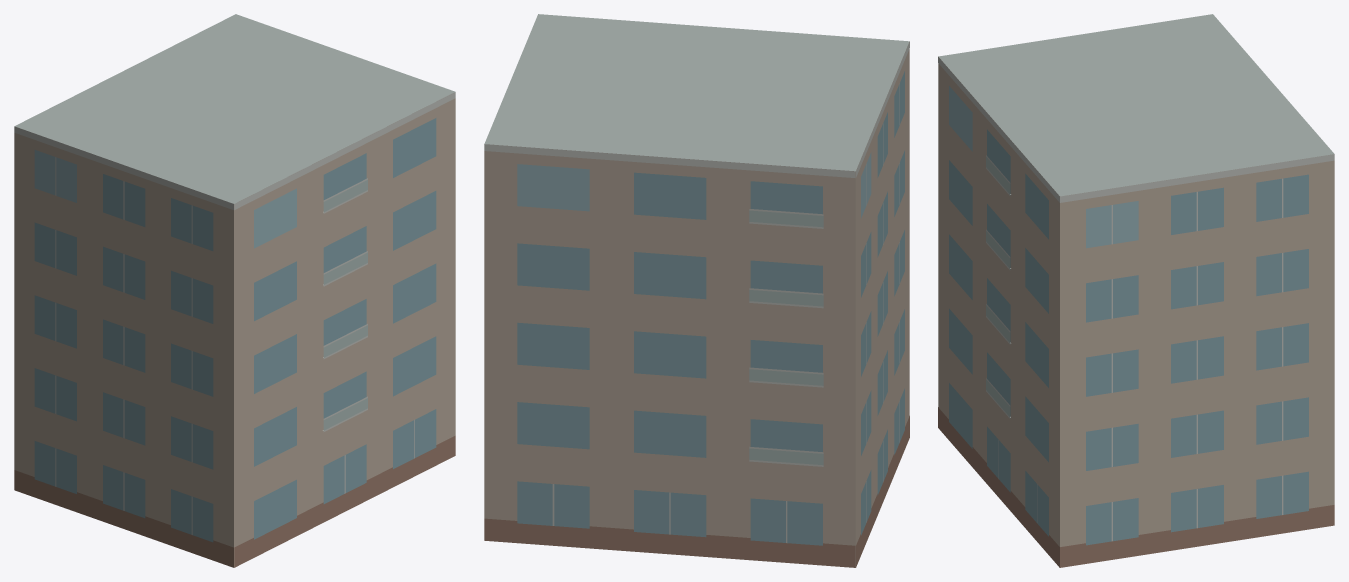
Rendered from survey-upis-32852988.glb.
The picture shows the model from 3 angles, left to right: view 1: azimuth 30°, elevation 25°; view 2: azimuth 150°, elevation 25°; view 3: azimuth 270°, elevation 25°; orthographic projection. The views are drawn at different scales.
Visible parts, largest first — view 1: survey-upis-32852988.tmp; view 2: survey-upis-32852988.tmp; view 3: survey-upis-32852988.tmp.
Part boxes in pixels (x1,y1,x2,y2): survey-upis-32852988.tmp: (14,14,455,567); survey-upis-32852988.tmp: (484,14,909,567); survey-upis-32852988.tmp: (938,14,1334,567).
Bounding box in the file's own units: 14.76 × 14 × 13.56.
